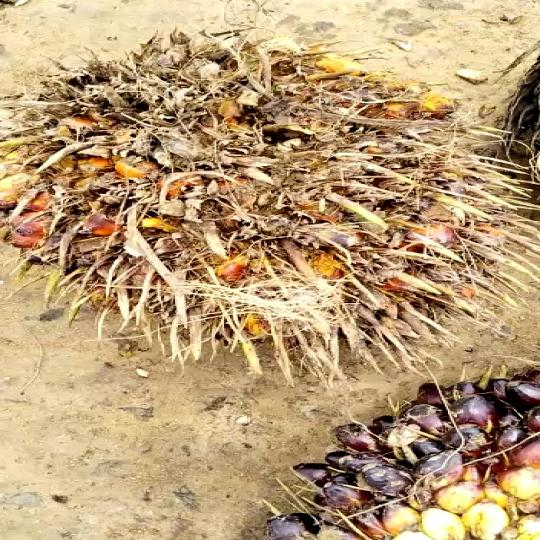terlalu masak: (0, 27, 526, 402)
